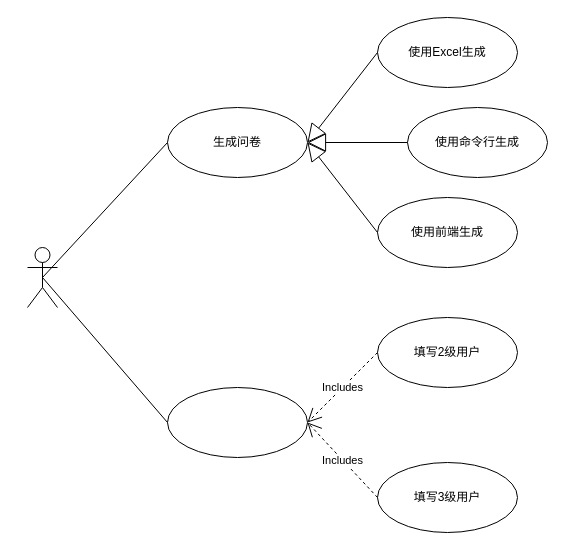
This 565x550 diagram has some shape labels left out. Here are the shapes that lost their labels. From the top down, the centre of each, then its label:
At (42,277): "Publisher".
At (237,422): "设置层级".
